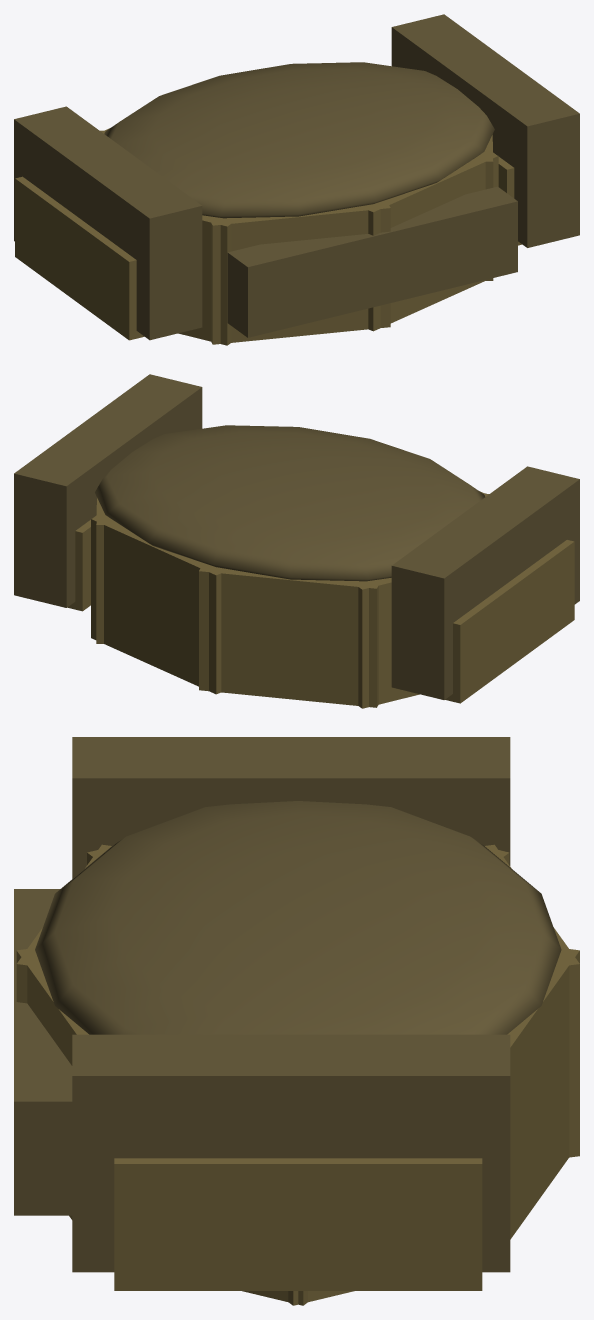
File: CMU3DCMHeadCapSPPUshankaFoldedWorldCloud.glb
The picture shows the model from 3 angles, top to bottom: view 1: azimuth 30°, elevation 25°; view 2: azimuth 150°, elevation 25°; view 3: azimuth 270°, elevation 25°; orthographic projection. The views are drawn at different scales.
Parts seen in each view (by area): view 1: ushanka soft connected roof, wide frontal fur facing, left folded-up fur earflap, right folded-up fur earflap, left cloth flap attachment, ushanka open cap band facet 05, ushanka open cap band facet 06, ushanka open cap band facet 04, right cloth flap attachment; view 2: ushanka soft connected roof, left folded-up fur earflap, ushanka open cap band facet 02, right folded-up fur earflap, ushanka open cap band facet 01, left cloth flap attachment, ushanka open cap band facet 03, right cloth flap attachment, ushanka open cap band facet 00; view 3: ushanka soft connected roof, right folded-up fur earflap, right cloth flap attachment, left folded-up fur earflap, wide frontal fur facing, ushanka open cap band facet 01, ushanka open cap band facet 06, ushanka open cap band facet 02, ushanka open cap band facet 05.
Part boxes in pixels (<box>): ushanka soft connected roof: <box>104,62,494,218</box>; wide frontal fur facing: <box>227,186,517,337</box>; left folded-up fur earflap: <box>14,106,202,340</box>; right folded-up fur earflap: <box>391,14,579,247</box>; left cloth flap attachment: <box>15,176,144,340</box>; ushanka open cap band facet 05: <box>209,200,390,344</box>; ushanka open cap band facet 06: <box>368,150,498,331</box>; ushanka open cap band facet 04: <box>178,215,238,345</box>; right cloth flap attachment: <box>493,152,521,245</box>; ushanka soft connected roof: <box>95,425,484,581</box>; left folded-up fur earflap: <box>391,466,579,699</box>; ushanka open cap band facet 02: <box>199,566,381,707</box>; right folded-up fur earflap: <box>14,374,202,607</box>; ushanka open cap band facet 01: <box>91,513,229,694</box>; left cloth flap attachment: <box>445,540,574,703</box>; ushanka open cap band facet 03: <box>351,578,419,708</box>; right cloth flap attachment: <box>67,515,96,611</box>; ushanka open cap band facet 00: <box>96,498,104,643</box>; ushanka soft connected roof: <box>35,801,561,1034</box>; right folded-up fur earflap: <box>72,1034,510,1272</box>; right cloth flap attachment: <box>114,1158,482,1290</box>; left folded-up fur earflap: <box>72,737,510,878</box>; wide frontal fur facing: <box>14,889,72,1215</box>; ushanka open cap band facet 01: <box>507,948,579,1239</box>; ushanka open cap band facet 06: <box>16,948,88,1219</box>; ushanka open cap band facet 02: <box>485,844,579,1157</box>; ushanka open cap band facet 05: <box>16,844,111,1003</box>.
Bounding box in the file's own units: 0.356 × 0.116 × 0.2429.
